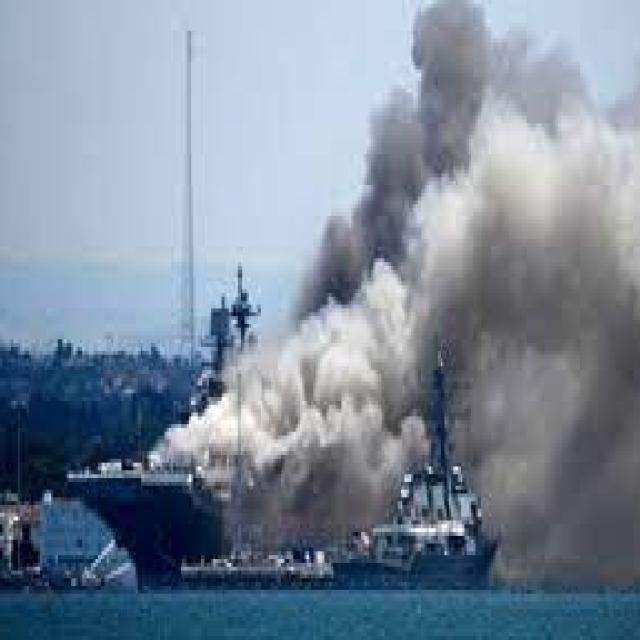navalvessels: (87, 186, 518, 593)
